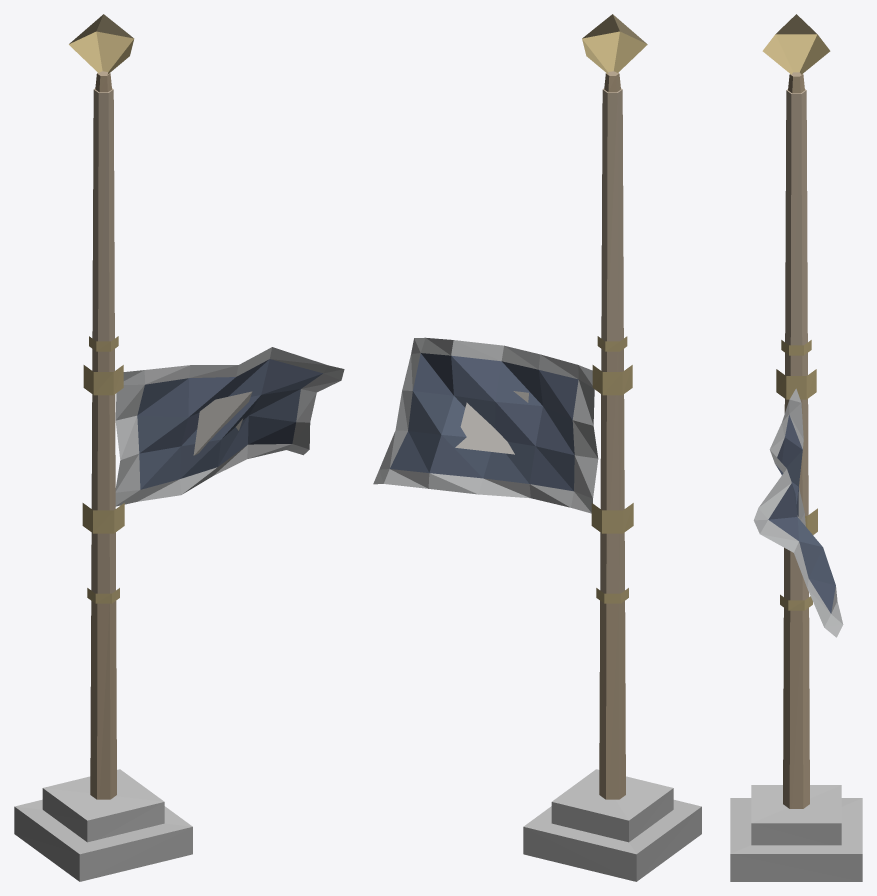
The model's file is flag.notched.dianqi__pole.ground.gaogan__midmast.glb.
3 renders of one model, left to right at view 1: azimuth 30°, elevation 25°; view 2: azimuth 150°, elevation 25°; view 3: azimuth 270°, elevation 25°, orthographic.
Parts seen in each view (by area): view 1: flag.notched.dianqi; view 2: flag.notched.dianqi; view 3: flag.notched.dianqi.
Boxes of the visible parts, x1,y1,x2,y2 form: flag.notched.dianqi: [14, 14, 344, 881]; flag.notched.dianqi: [373, 14, 701, 881]; flag.notched.dianqi: [730, 14, 862, 881].
Size of the model in its own units: 1.99 by 5.72 by 0.816.
